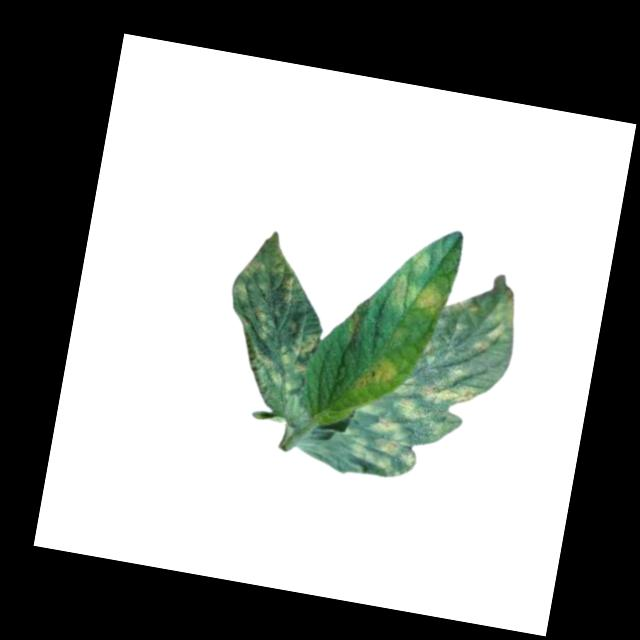Leaf_Mold: (344, 273, 518, 495), (212, 222, 340, 413), (353, 345, 402, 400), (387, 274, 443, 319), (409, 242, 434, 277)
